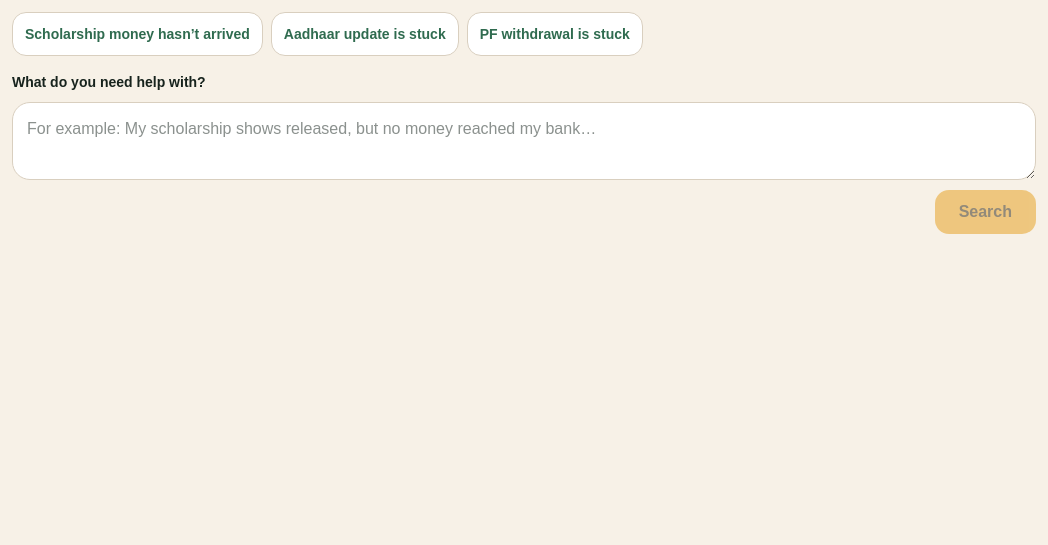
Scenario: a plain-language starter searches without silently creating a case
The width and height of the screenshot is (1048, 545).
Click the button "Scholarship money hasn’t arrived".
click(137, 34)  # box [12,12,263,56]
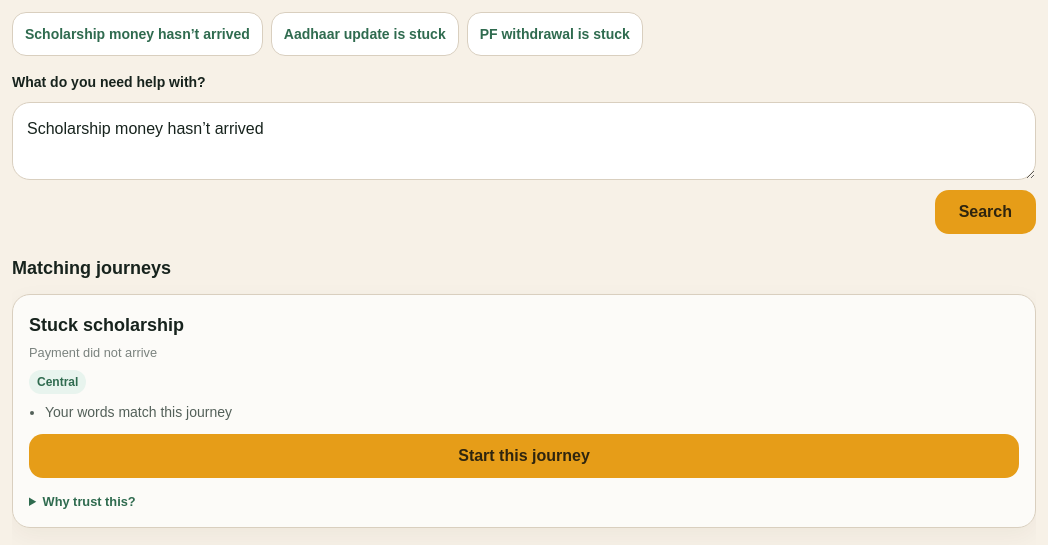
Check: the button "Start this journey" is shown, box [29,434,1019,478]
